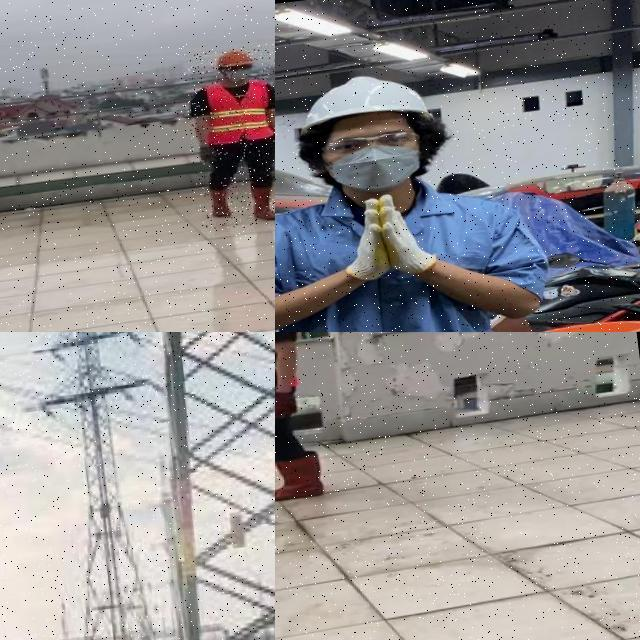boots: (275, 449, 324, 504), (248, 181, 275, 223), (204, 184, 236, 218)
helmet: (286, 63, 442, 141), (212, 46, 256, 70)
vest: (203, 78, 275, 146)
